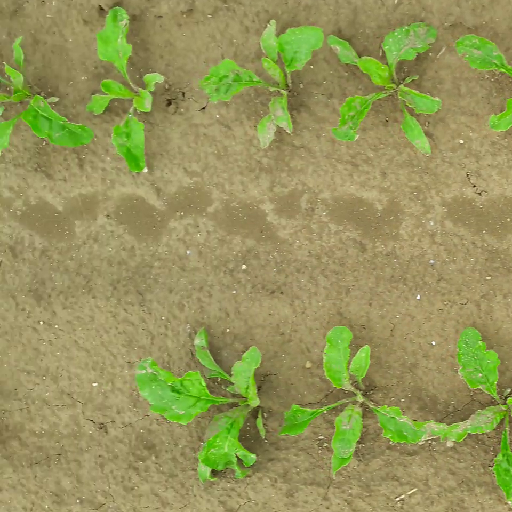sugarbeet: (278, 322, 430, 477), (135, 330, 266, 482), (197, 19, 325, 150), (325, 21, 442, 156), (429, 328, 512, 508), (87, 7, 166, 172), (1, 35, 95, 153), (453, 33, 512, 130)
